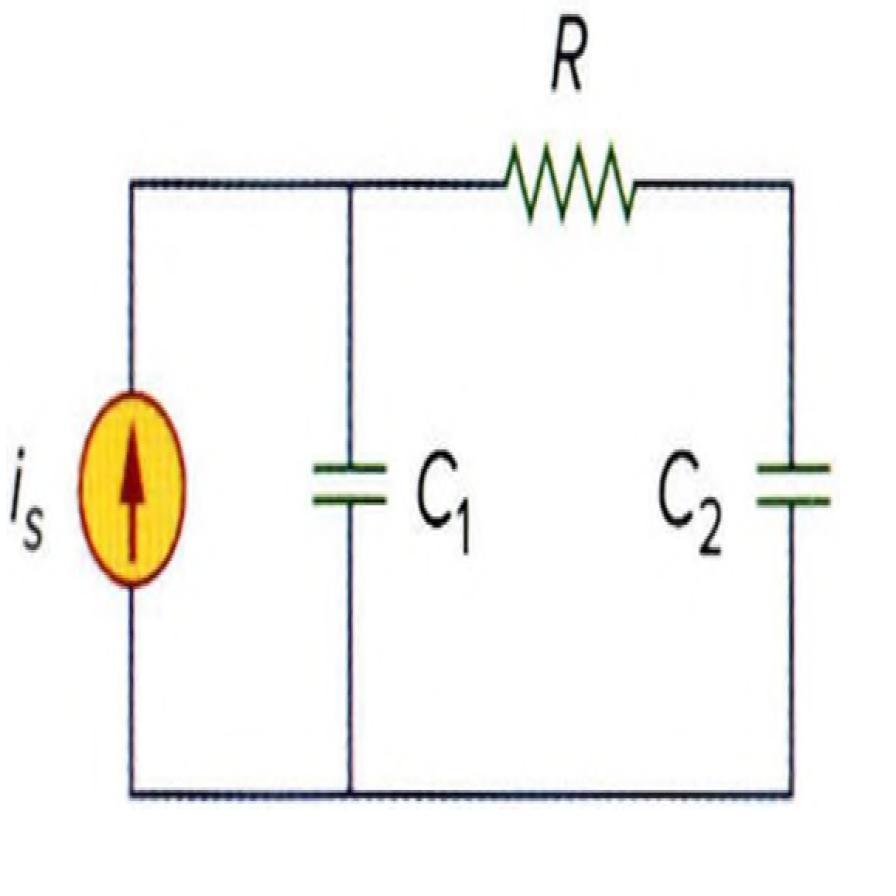C2: (290, 414, 400, 558), (740, 434, 850, 552)
I1: (64, 376, 203, 606)
R1: (489, 121, 645, 277)
